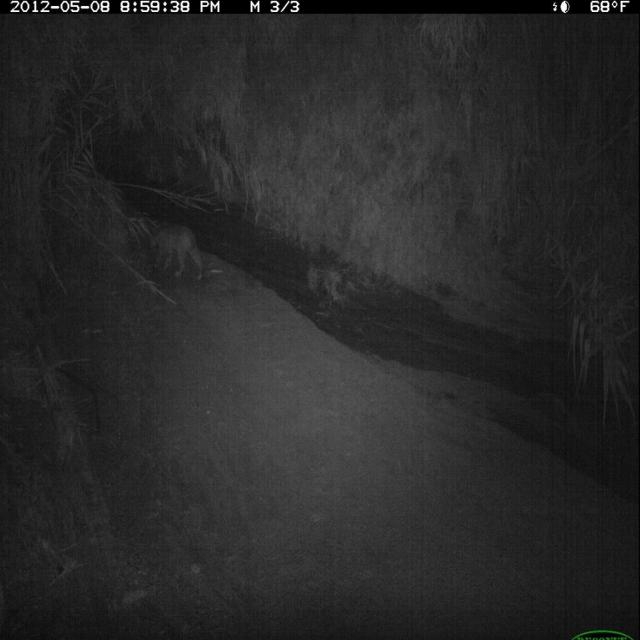bobcat: (148, 216, 209, 286)
